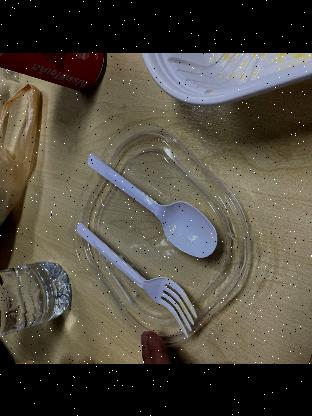Others: (85, 148, 223, 266), (71, 218, 201, 336)
